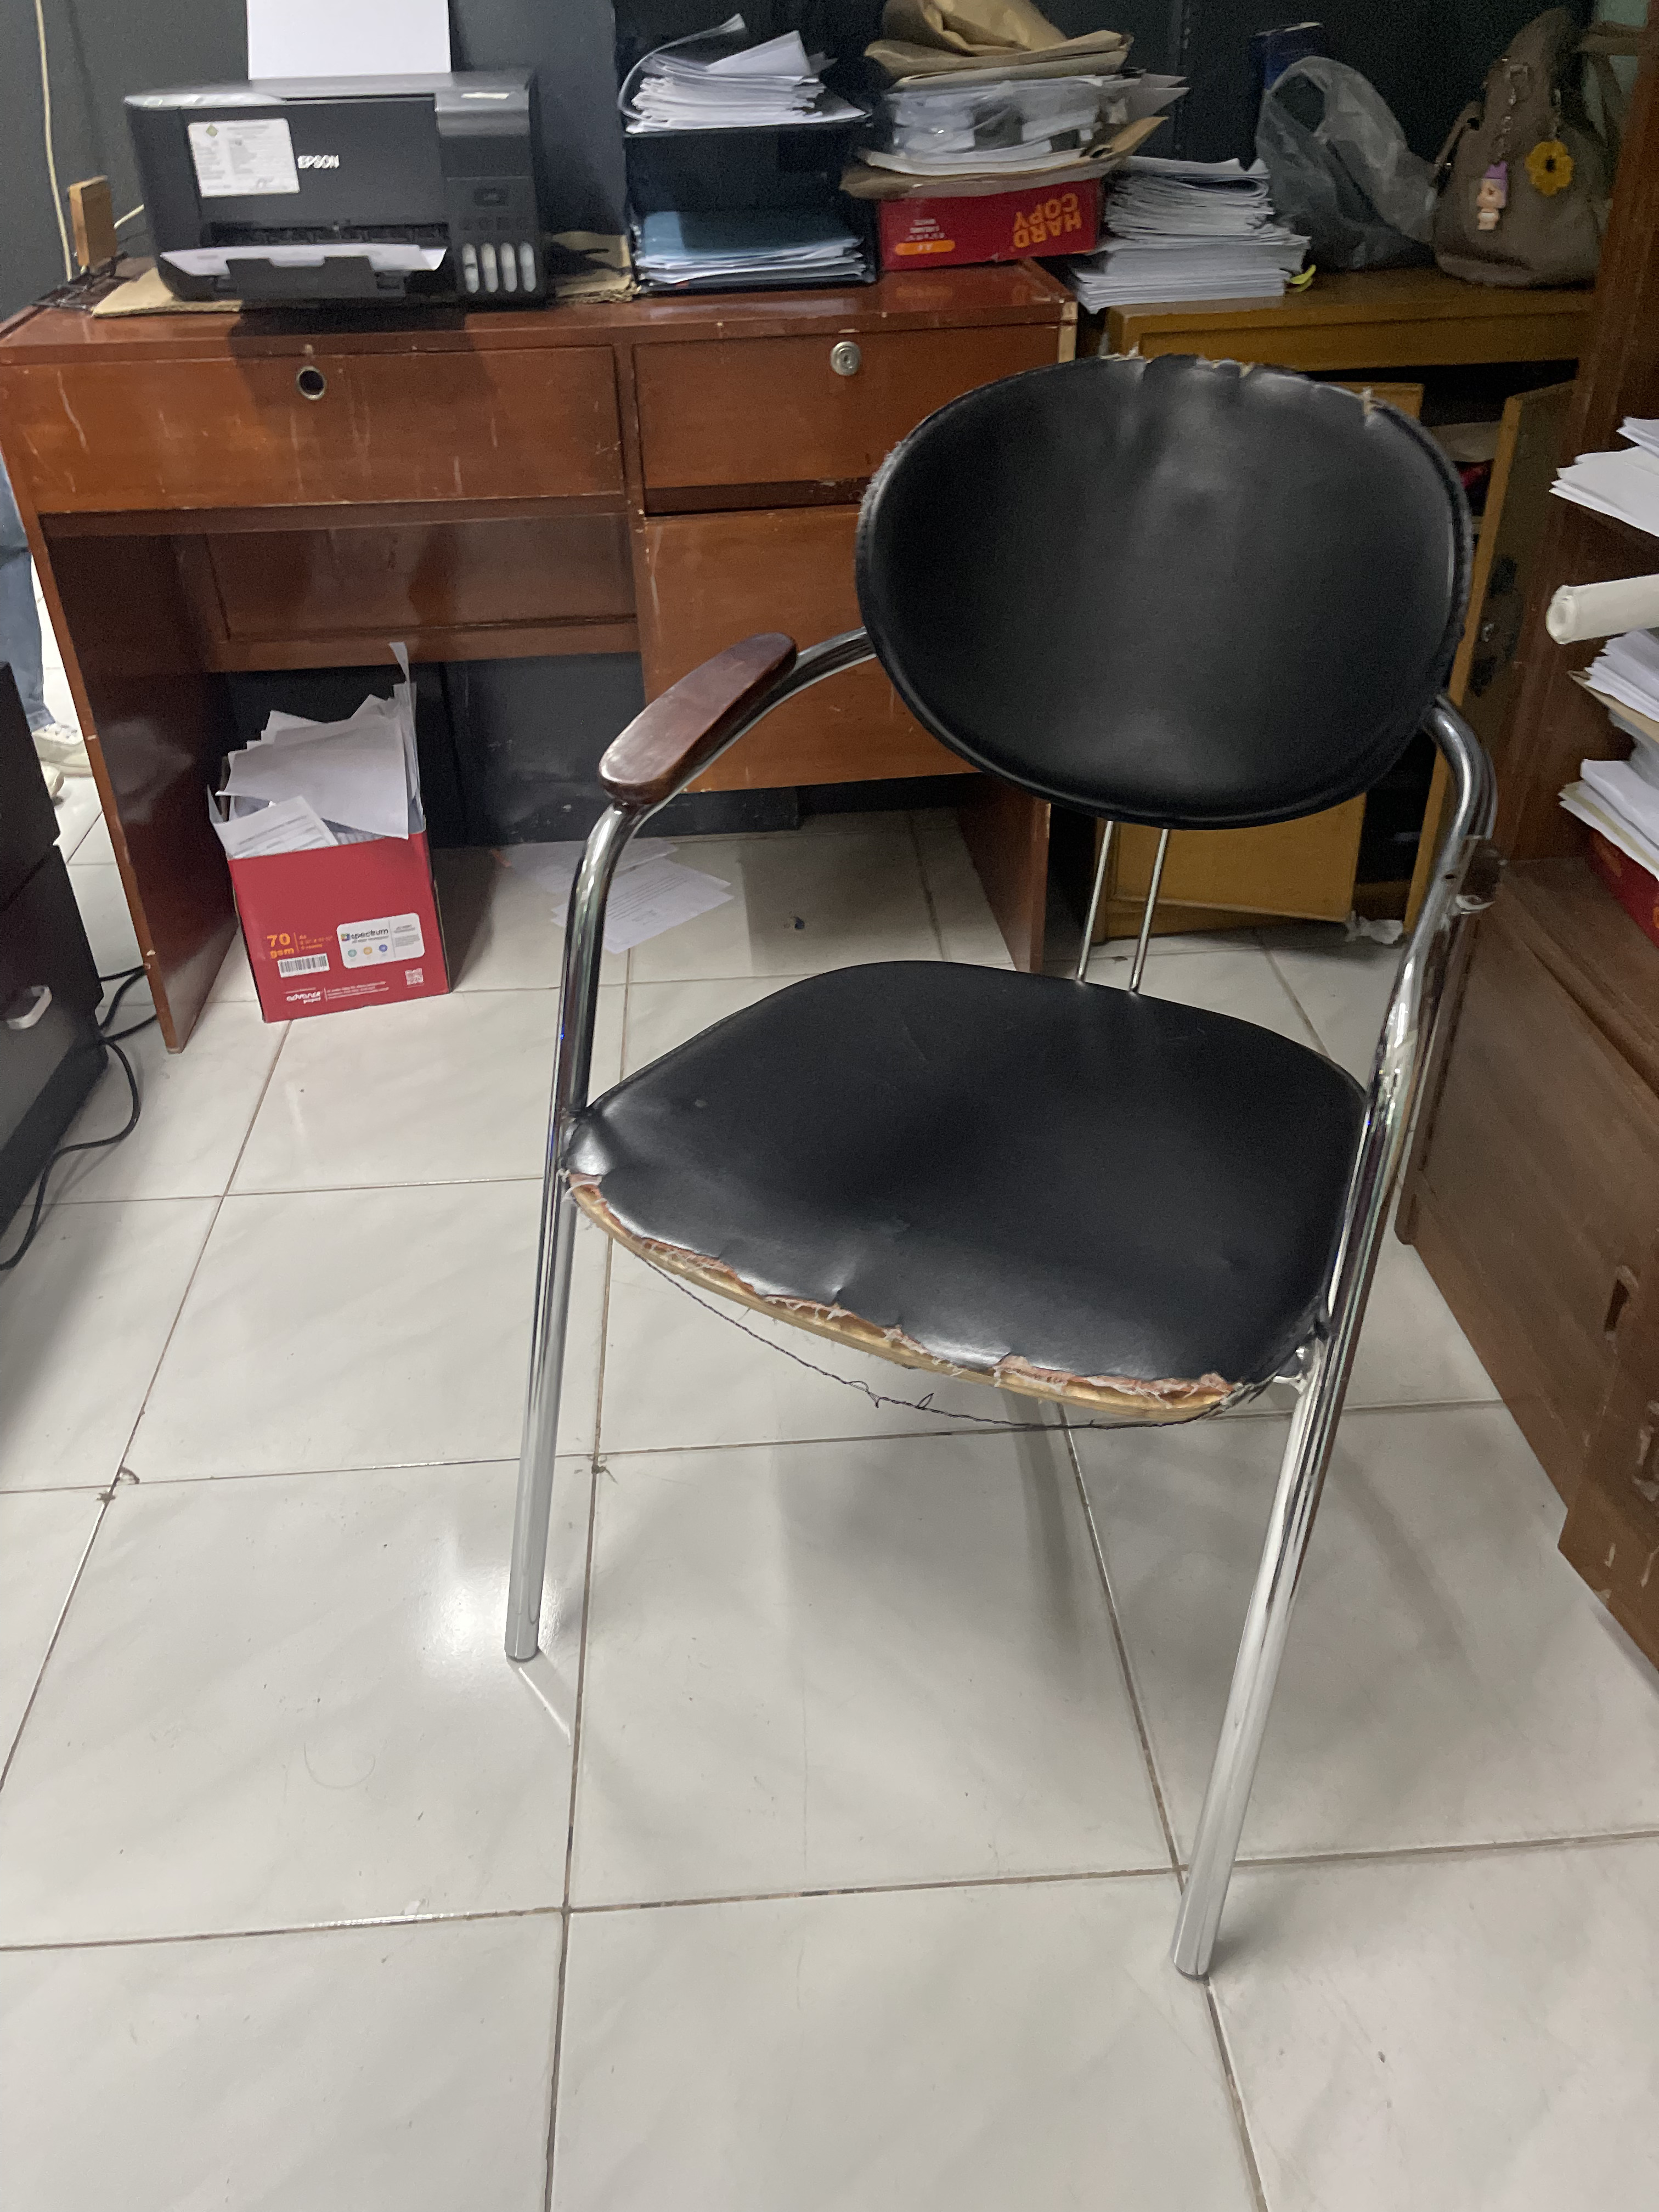chair1: (498, 340, 1509, 2003)
